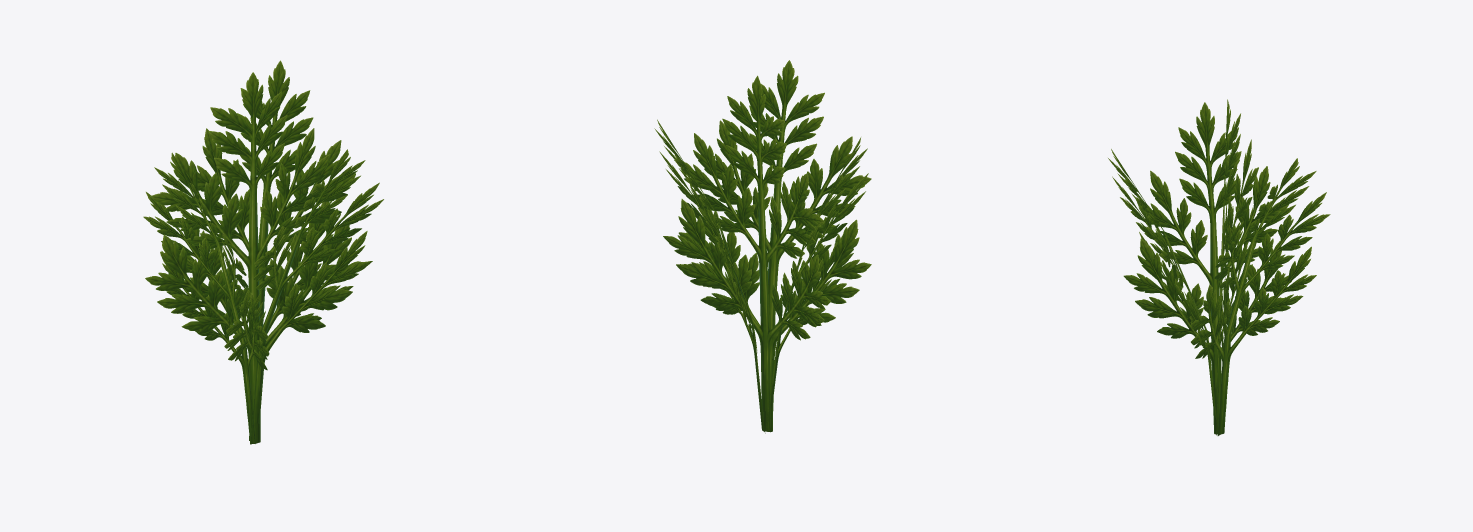
Rendered from CarrotPlant02.fbx.
The picture shows the model from 3 angles, left to right: view 1: azimuth 30°, elevation 25°; view 2: azimuth 150°, elevation 25°; view 3: azimuth 270°, elevation 25°; orthographic projection. The views are drawn at different scales.
Visible parts, largest first — view 1: CarrotPlant02_LOD0; view 2: CarrotPlant02_LOD0; view 3: CarrotPlant02_LOD0.
Part boxes in pixels (x1,y1,x2,y2): CarrotPlant02_LOD0: [143, 60, 383, 444]; CarrotPlant02_LOD0: [654, 60, 871, 433]; CarrotPlant02_LOD0: [1108, 99, 1330, 435].
Size of what is drawn, in the model's own units: 0.5521 by 0.4893 by 0.5736.
